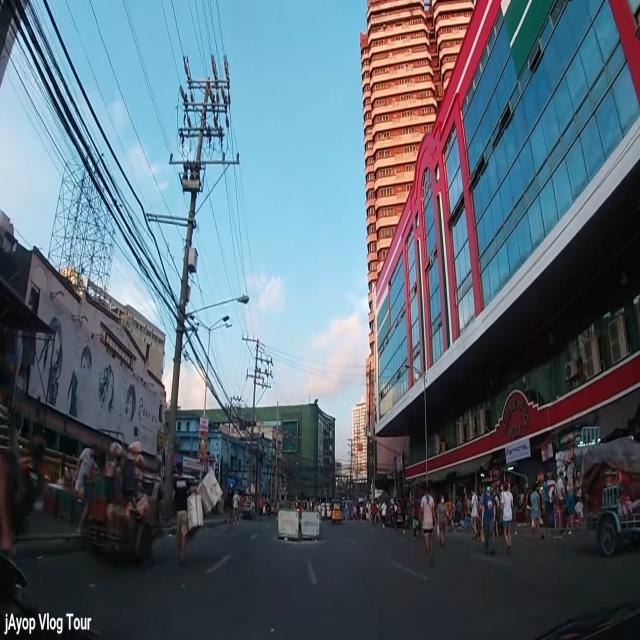tricycle: (74, 440, 164, 568), (330, 500, 342, 522)
